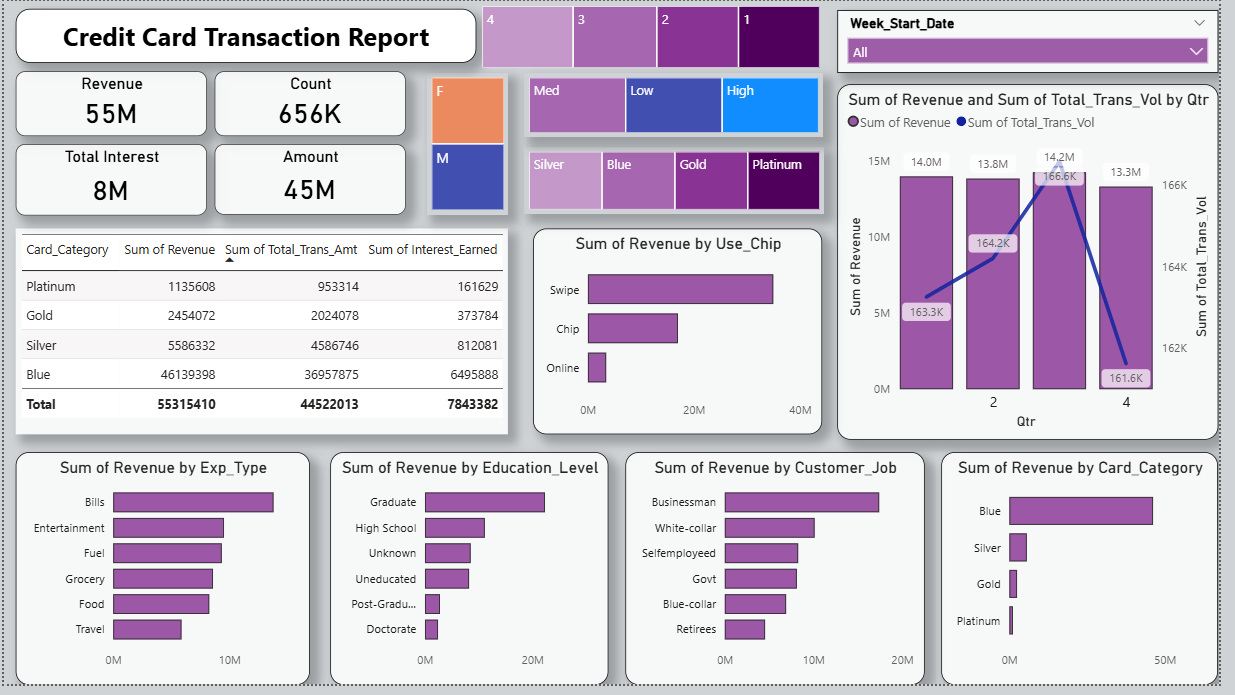

Layout of this report page (visuals, bound fields, positions):
{"tool":"powerbi","page":{"name":"Custmer1","canvas":[1280,720],"ordinal":0},"visuals":[{"type":"textbox","box":[12.9,8.6,485.7,57.1],"z":0},{"type":"lineStackedColumnComboChart","fields":{"Y":["Sum(credit_card_detail.Revenue)"],"Y2":["Sum(credit_card_detail.Total_Trans_Vol)"],"Category":["credit_card_detail.Qtr"]},"box":[878.1,87.8,401.6,374.5],"z":1000},{"type":"barChart","fields":{"Y":["Sum(credit_card_detail.Revenue)"],"Category":["credit_card_detail.Exp_Type"]},"box":[12.9,475.2,309.9,245.3],"z":2000},{"type":"barChart","fields":{"Y":["Sum(credit_card_detail.Revenue)"],"Category":["customer_detail.Education_Level"]},"box":[343.5,475.2,293.1,245.3],"z":3000},{"type":"barChart","fields":{"Y":["Sum(credit_card_detail.Revenue)"],"Category":["customer_detail.Customer_Job"]},"box":[654.7,475.2,315.1,245.3],"z":4000},{"type":"barChart","fields":{"Y":["Sum(credit_card_detail.Revenue)"],"Category":["credit_card_detail.Card_Category"]},"box":[987.8,475.2,291.8,245.3],"z":5000},{"type":"barChart","fields":{"Y":["Sum(credit_card_detail.Revenue)"],"Category":["credit_card_detail.Use_Chip"]},"box":[557.8,240.2,304.7,216.9],"z":6000},{"type":"tableEx","fields":{"Values":["credit_card_detail.Card_Category","Sum(credit_card_detail.Revenue)","Sum(credit_card_detail.Total_Trans_Amt)","Sum(credit_card_detail.Interest_Earned)"]},"box":[12.9,240,518.6,217.1],"z":7000},{"type":"slicer","fields":{"Values":["credit_card_detail.Week_Start_Date"]},"box":[878.1,9,401.6,65.9],"z":8000},{"type":"treemap","fields":{"Group":["credit_card_detail.Qtr"],"Values":["Avg(credit_card_detail.Client_Num)"]},"box":[498.4,0,365.4,74.9],"z":9000},{"type":"treemap","fields":{"Group":["customer_detail.Gender"],"Values":["Avg(credit_card_detail.Client_Num)"]},"box":[445.5,74.9,86.5,149.8],"z":10000},{"type":"treemap","fields":{"Group":["credit_card_detail.Card_Category"],"Values":["Avg(credit_card_detail.Client_Num)"]},"box":[547.5,153.7,316.4,71],"z":11000},{"type":"treemap","fields":{"Group":["customer_detail.IncomeGroup"],"Values":["Avg(credit_card_detail.Client_Num)"]},"box":[547.5,74.9,315.1,68.4],"z":12000},{"type":"card","title":"Revenue","fields":{"Values":["Sum(credit_card_detail.Revenue)"]},"box":[12.9,74.3,201.4,68.6],"z":13000},{"type":"card","title":"Total Interest","fields":{"Values":["Sum(credit_card_detail.Interest_Earned)"]},"box":[12.9,150,201.4,75.7],"z":14000},{"type":"card","title":"Count","fields":{"Values":["Sum(credit_card_detail.Total_Trans_Vol)"]},"box":[221.4,74.3,201.4,68.6],"z":15000},{"type":"card","title":"Amount","fields":{"Values":["Sum(credit_card_detail.Total_Trans_Amt)"]},"box":[221.4,150,201.4,74.3],"z":16000}]}

Visuals, with their boxes in screenshot pixels (x1, y1, x2, y2), scaled from the page's 1280x720 canvas onto the 1235x695 screenshot:
textbox: (12,8,481,63)
lineStackedColumnComboChart - Sum(credit_card_detail.Revenue) x Sum(credit_card_detail.Total_Trans_Vol): (847,85,1234,446)
barChart - Sum(credit_card_detail.Revenue) x credit_card_detail.Exp_Type: (12,459,311,694)
barChart - Sum(credit_card_detail.Revenue) x customer_detail.Education_Level: (331,459,614,694)
barChart - Sum(credit_card_detail.Revenue) x customer_detail.Customer_Job: (632,459,936,694)
barChart - Sum(credit_card_detail.Revenue) x credit_card_detail.Card_Category: (953,459,1234,694)
barChart - Sum(credit_card_detail.Revenue) x credit_card_detail.Use_Chip: (538,232,832,441)
tableEx - credit_card_detail.Card_Category x Sum(credit_card_detail.Revenue): (12,232,513,441)
slicer - credit_card_detail.Week_Start_Date: (847,9,1234,72)
treemap - credit_card_detail.Qtr x Avg(credit_card_detail.Client_Num): (481,0,833,72)
treemap - customer_detail.Gender x Avg(credit_card_detail.Client_Num): (430,72,513,217)
treemap - credit_card_detail.Card_Category x Avg(credit_card_detail.Client_Num): (528,148,834,217)
treemap - customer_detail.IncomeGroup x Avg(credit_card_detail.Client_Num): (528,72,832,138)
"Revenue" card: (12,72,207,138)
"Total Interest" card: (12,145,207,218)
"Count" card: (214,72,408,138)
"Amount" card: (214,145,408,217)
